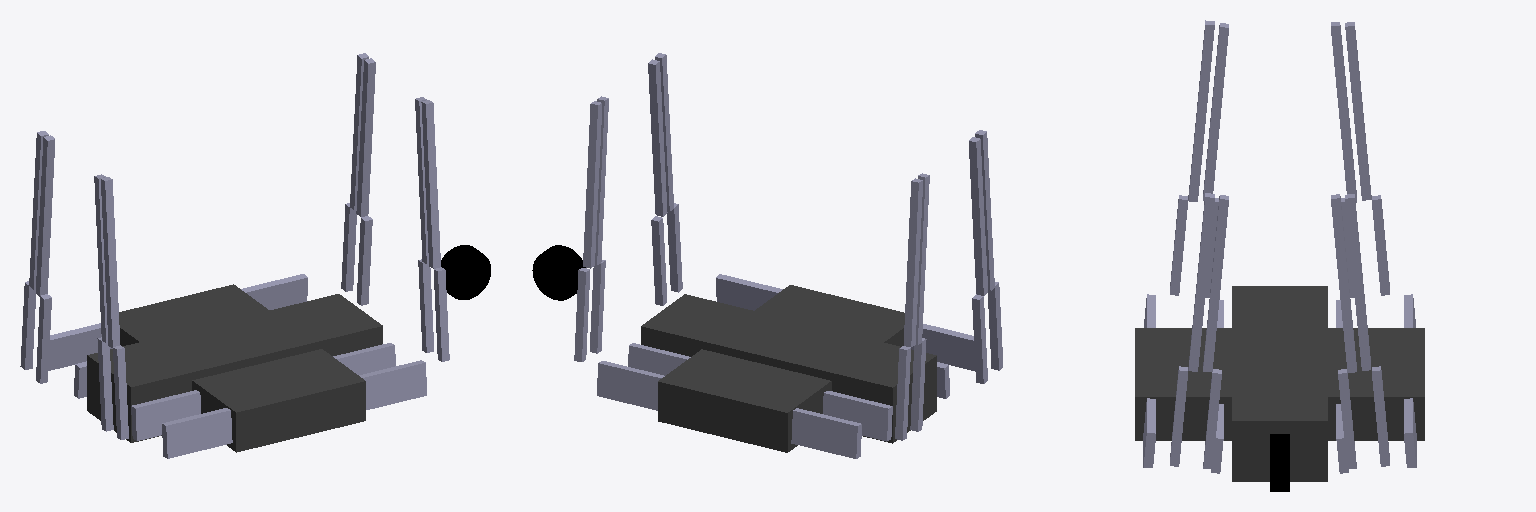
--- What the picture shows (computed from the rendered views, not written in the file) ---
The picture shows the robot from 3 angles, left to right: view 1: azimuth 30°, elevation 25°; view 2: azimuth 150°, elevation 25°; view 3: azimuth 270°, elevation 25°; orthographic projection.
Robot: quadruped — 28 links, 27 joints (8 revolute, 8 continuous, 11 fixed); root link base_chassis_link; default pose: every joint at zero.
Links seen in each view (by area): view 1: base_chassis_link, chassis_right, chassis_left, eyes, lower_leg_back_rightR_link, lower_leg_front_rightR_link, lower_leg_back_leftR_link, lower_leg_front_leftR_link, upper_leg_front_rightR_link, upper_leg_back_rightR_link, lower_leg_back_leftL_link, lower_leg_front_leftL_link (+8 smaller); view 2: base_chassis_link, chassis_left, chassis_right, eyes, lower_leg_back_leftL_link, lower_leg_front_leftL_link, lower_leg_back_rightL_link, lower_leg_front_rightL_link, lower_leg_back_rightR_link, lower_leg_back_leftR_link, lower_leg_front_rightR_link, upper_leg_back_leftL_link (+8 smaller); view 3: base_chassis_link, lower_leg_back_rightR_link, chassis_right, chassis_left, lower_leg_front_rightR_link, lower_leg_back_leftL_link, lower_leg_front_leftR_link, lower_leg_front_rightL_link, lower_leg_front_leftL_link, lower_leg_back_leftR_link, lower_leg_back_rightL_link, eyes (+6 smaller).
Link boxes in pixels (x1=…): base_chassis_link: x1=87, y1=284, x2=382, y2=452; chassis_right: x1=131, y1=343, x2=426, y2=458; chassis_left: x1=48, y1=274, x2=307, y2=398; eyes: x1=441, y1=245, x2=490, y2=299; lower_leg_back_rightR_link: x1=101, y1=177, x2=119, y2=347; lower_leg_front_rightR_link: x1=421, y1=100, x2=440, y2=268; lower_leg_back_leftR_link: x1=36, y1=135, x2=54, y2=296; lower_leg_front_leftR_link: x1=356, y1=58, x2=375, y2=216; upper_leg_front_rightR_link: x1=434, y1=267, x2=449, y2=361; upper_leg_back_rightR_link: x1=113, y1=345, x2=128, y2=439; lower_leg_back_leftL_link: x1=29, y1=131, x2=48, y2=289; lower_leg_front_leftL_link: x1=350, y1=53, x2=368, y2=210; base_chassis_link: x1=641, y1=285, x2=936, y2=452; chassis_left: x1=597, y1=343, x2=892, y2=458; chassis_right: x1=716, y1=274, x2=975, y2=398; eyes: x1=532, y1=245, x2=585, y2=300; lower_leg_back_leftL_link: x1=904, y1=178, x2=922, y2=346; lower_leg_front_leftL_link: x1=583, y1=101, x2=601, y2=268; lower_leg_back_rightL_link: x1=969, y1=137, x2=987, y2=295; lower_leg_front_rightL_link: x1=648, y1=59, x2=667, y2=216; lower_leg_back_rightR_link: x1=975, y1=130, x2=994, y2=290; lower_leg_back_leftR_link: x1=916, y1=173, x2=929, y2=344; lower_leg_front_rightR_link: x1=655, y1=53, x2=673, y2=211; upper_leg_back_leftL_link: x1=895, y1=346, x2=910, y2=440; base_chassis_link: x1=1135, y1=286, x2=1424, y2=481; lower_leg_back_rightR_link: x1=1188, y1=20, x2=1214, y2=201; chassis_right: x1=1143, y1=294, x2=1223, y2=473; chassis_left: x1=1336, y1=294, x2=1416, y2=473; lower_leg_front_rightR_link: x1=1188, y1=193, x2=1214, y2=371; lower_leg_back_leftL_link: x1=1345, y1=22, x2=1371, y2=200; lower_leg_front_leftR_link: x1=1331, y1=194, x2=1356, y2=372; lower_leg_front_rightL_link: x1=1203, y1=195, x2=1228, y2=371; lower_leg_front_leftL_link: x1=1345, y1=194, x2=1370, y2=370; lower_leg_back_leftR_link: x1=1331, y1=22, x2=1356, y2=202; lower_leg_back_rightL_link: x1=1203, y1=23, x2=1228, y2=200; eyes: x1=1270, y1=434, x2=1289, y2=491.
Bounding box of the posed robot: 0.545 × 0.3 × 0.3508 m (x, y, z).
Meshes: 1 distinct files referenced, 0 mesh visuals loaded (none loaded); not drawn: 8 (reference not matched to a file when rendering).

robot.urdf — quadruped:
<?xml version="0.0" ?>
<!-- ======================================================================= -->
<!--LICENSE:                                                                 -->
<!--Copyright (c) 2017, Erwin Coumans                                        -->
<!--Google Inc.                                                              -->
<!--All rights reserved.                                                     -->
<!--                                                                         -->
<!--Redistribution and use in source and binary forms, with or without       -->
<!--modification, are permitted provided that the following conditions are   -->
<!--met:                                                                     -->
<!--                                                                         -->
<!--1. Redistributions or derived work must retain this copyright notice,    -->
<!--   this list of conditions and the following disclaimer.                 -->
<!--                                                                         -->
<!--2. Redistributions in binary form must reproduce the above copyright     -->
<!--   notice, this list of conditions and the following disclaimer in the   -->
<!--   documentation and/or other materials provided with the distribution.  -->
<!--                                                                         -->
<!--THIS SOFTWARE IS PROVIDED BY THE COPYRIGHT HOLDERS AND CONTRIBUTORS "AS  -->
<!--IS" AND ANY EXPRESS OR IMPLIED WARRANTIES, INCLUDING, BUT NOT LIMITED TO,-->
<!--THE IMPLIED WARRANTIES OF MERCHANTABILITY AND FITNESS FOR A PARTICULAR   -->
<!--PURPOSE ARE DISCLAIMED. IN NO EVENT SHALL THE COPYRIGHT HOLDER OR        -->
<!--CONTRIBUTORS BE LIABLE FOR ANY DIRECT, INDIRECT, INCIDENTAL, SPECIAL,    -->
<!--EXEMPLARY, OR CONSEQUENTIAL DAMAGES (INCLUDING, BUT NOT LIMITED TO,      -->
<!--PROCUREMENT OF SUBSTITUTE GOODS OR SERVICES; LOSS OF USE, DATA, OR       -->
<!--PROFITS; OR BUSINESS INTERRUPTION) HOWEVER CAUSED AND ON ANY THEORY OF   -->
<!--LIABILITY, WHETHER IN CONTRACT, STRICT LIABILITY, OR TORT (INCLUDING     -->
<!--NEGLIGENCE OR OTHERWISE) ARISING IN ANY WAY OUT OF THE USE OF THIS       -->
<!--SOFTWARE, EVEN IF ADVISED OF THE POSSIBILITY OF SUCH DAMAGE.             -->

<robot name="quadruped">
  <link name="base_chassis_link">
    <visual>
      <geometry>
        <box size=".33 0.10 .07"/>
      </geometry>
      <material name="black">
        <color rgba="0.3 0.3 0.3 1"/>
      </material>
    </visual>
    <visual>
			<origin rpy="0 0 0" xyz="0 0.10 0"/>
      <geometry>
        <box size=".17 0.10 .05"/>
      </geometry>
      <material name="black">
        <color rgba="0.3 0.3 0.3 1"/>
      </material>
    </visual>
		<visual>
			<origin rpy="0 0 0" xyz="0 -0.10 0"/>
      <geometry>
        <box size=".17 0.10 .05"/>
      </geometry>
      <material name="black">
        <color rgba="0.3 0.3 0.3 1"/>
      </material>
    </visual>

    <collision>
      <geometry>
       <box size=".33 0.10 .07"/>
      </geometry>
    </collision>
    <collision>
			<origin rpy="0 0 0" xyz="0 0.10 0"/>
      <geometry>
       <box size=".17 0.10 .05"/>
      </geometry>
    </collision>
    <collision>
			<origin rpy="0 0 0" xyz="0 -0.10 0"/>
      <geometry>
       <box size=".17 0.10 .05"/>
      </geometry>
    </collision>

    <inertial>
      <mass value="3"/>
      <inertia ixx="1.0" ixy="0.0" ixz="0.0" iyy="1.0" iyz="0.0" izz="1.0"/>
    </inertial>
  </link>
  <link name="eyes">
    <inertial>
      <mass value="0.0"/>
      <inertia ixx="0.0" ixy="0.0" ixz="0.0" iyy="0.0" iyz="0.0" izz="0.0"/>
    </inertial>
    <visual>
      <origin xyz="0 0 0" rpy="0 1.5708 0" />
      <geometry>
        <cylinder radius="0.03" length="0.02"/>
      </geometry>
      <material name="Black">
        <color rgba="0 0 0 1.0"/>
      </material>
    </visual>
  </link>
  <joint name="eyes_joint" type="fixed">
    <!-- camera is located at front bar -->
    <origin rpy="1.57 0 -1.57" xyz="0.3 0 0.05"/>
    <parent link="base_chassis_link"/>
    <child link="eyes"/>
  </joint>
  <link name="chassis_right">
    <visual>
			<origin rpy="0 0 0" xyz="0 0.035 0"/>
      <geometry>
       <box size=".34 0.01 .04"/>
      </geometry>
			<material name="grey">
        <color rgba="0.65 0.65 0.75 1"/>
      </material>    </visual>
    <visual>
			<origin rpy="0 0 0" xyz="0 -0.035 0"/>
      <geometry>
       <box size=".34 0.01 .04"/>
      </geometry>
			<material name="grey">
        <color rgba="0.65 0.65 0.75 1"/>
      </material>    
    </visual>
    <collision>
			<origin rpy="0 0 0" xyz="0 0.035 0"/>
      <geometry>
       <box size=".34 0.01 .04"/>
      </geometry>
    </collision>
    <collision>
			<origin rpy="0 0 0" xyz="0 -0.035 0"/>
      <geometry>
       <box size=".34 0.01 .04"/>
      </geometry>
    </collision>
    <inertial>
      <mass value=".1"/>
      <inertia ixx="1.0" ixy="0.0" ixz="0.0" iyy="1.0" iyz="0.0" izz="1.0"/>
    </inertial>
  </link>

  <joint name="chassis_right_center" type="fixed">
    <axis xyz="0 0 1"/>
    <parent link="base_chassis_link"/>
    <child link="chassis_right"/>
    <origin rpy="-0.0872665 0 0" xyz="0.0 -0.10 0.0"/>
    <limit effort="100" velocity="100"/>
    <joint_properties damping="0.0" friction="0.0"/>
  </joint>

  <link name="chassis_left">
    <visual>
			<origin rpy="0 0 0" xyz="0 0.035 0"/>
      <geometry>
       <box size=".34 0.01 .04"/>
      </geometry>
			<material name="grey">
        <color rgba="0.65 0.65 0.75 1"/>
      </material>    </visual>
    <visual>
			<origin rpy="0 0 0" xyz="0 -0.035 0"/>
      <geometry>
       <box size=".34 0.01 .04"/>
      </geometry>
			<material name="grey">
        <color rgba="0.65 0.65 0.75 1"/>
      </material>    </visual>
    <collision>
			<origin rpy="0 0 0" xyz="0 0.035 0"/>
      <geometry>
       <box size=".34 0.01 .04"/>
      </geometry>
    </collision>
    <collision>
			<origin rpy="0 0 0" xyz="0 -0.035 0"/>
      <geometry>
       <box size=".34 0.01 .04"/>
      </geometry>
    </collision>
    <inertial>
      <mass value=".1"/>
      <inertia ixx="1.0" ixy="0.0" ixz="0.0" iyy="1.0" iyz="0.0" izz="1.0"/>
    </inertial>
  </link>

  <joint name="chassis_left_center" type="fixed">
    <axis xyz="0 0 1"/>
    <parent link="base_chassis_link"/>
    <child link="chassis_left"/>
    <origin rpy="0.0872665 0 0" xyz="0.0 0.10 0.0"/>
    <limit effort="100" velocity="100"/>
    <joint_properties damping="0.0" friction="0.0"/>
  </joint>

  
  
  <link name="motor_front_rightR_link">
    <visual>
      <geometry>
        <mesh filename="tmotor3.obj" scale="1 1 1"/>
      </geometry>
      <material name="white">
        <color rgba="1 1 1 1"/>
      </material>
    </visual>
    <collision>
      <geometry>
        <cylinder length="0.026" radius="0.0434"/>
      </geometry>
    </collision>
    <inertial>
      <mass value="0.25"/>
      <inertia ixx="1.0" ixy="0.0" ixz="0.0" iyy="1.0" iyz="0.0" izz="1.0"/>
    </inertial>
  </link>
  <joint name="motor_front_rightR_joint" type="continuous">
    <axis xyz="0 0 1"/>
    <parent link="chassis_right"/>
    <child link="motor_front_rightR_link"/>
    <origin rpy="1.57075 0 0" xyz="0.21 -0.025 0"/>
    <limit effort="100" velocity="100"/>
    <joint_properties damping="0.0" friction="0.0"/>
  </joint>


	<link name="motor_front_rightL_link">
    <visual>
      <geometry>
        <mesh filename="tmotor3.obj" scale="1 1 1"/>
      </geometry>
      <material name="white">
        <color rgba="1 1 1 1"/>
      </material>
    </visual>
    <collision>
      <geometry>
        <cylinder length="0.026" radius="0.0434"/>
      </geometry>
    </collision>
    <inertial>
      <mass value="0.25"/>
      <inertia ixx="1.0" ixy="0.0" ixz="0.0" iyy="1.0" iyz="0.0" izz="1.0"/>
    </inertial>
  </link>
  <joint name="motor_front_rightL_joint" type="continuous">
    <axis xyz="0 0 1"/>
    <parent link="chassis_right"/>
    <child link="motor_front_rightL_link"/>
    <origin rpy="1.57075 0 3.141592" xyz="0.21 0.04 0"/>
    <limit effort="100" velocity="100"/>
    <joint_properties damping="0.0" friction="0.0"/>
  </joint>
  
  
  <link name="motor_front_leftL_link">
    <visual>
      <geometry>
        <mesh filename="tmotor3.obj" scale="1 1 1"/>
      </geometry>
      <material name="white">
        <color rgba="1 1 1 1"/>
      </material>
    </visual>
    <collision>
      <geometry>
        <cylinder length="0.026" radius="0.0434"/>
      </geometry>
    </collision>
    <inertial>
      <mass value="0.25"/>
      <inertia ixx="1.0" ixy="0.0" ixz="0.0" iyy="1.0" iyz="0.0" izz="1.0"/>
    </inertial>
  </link>
  <joint name="motor_front_leftL_joint" type="continuous">
    <axis xyz="0 0 1"/>
    <parent link="chassis_left"/>
    <child link="motor_front_leftL_link"/>
    <origin rpy="1.57075 0 3.141592" xyz="0.21 0.025 0"/>
    <limit effort="100" velocity="100"/>
    <joint_properties damping="0.0" friction="0.0"/>
  </joint>


	<link name="motor_front_leftR_link">
    <visual>
      <geometry>
        <mesh filename="tmotor3.obj" scale="1 1 1"/>
      </geometry>
      <material name="white">
        <color rgba="1 1 1 1"/>
      </material>
    </visual>
    <inertial>
      <mass value="0.25"/>
      <inertia ixx="1.0" ixy="0.0" ixz="0.0" iyy="1.0" iyz="0.0" izz="1.0"/>
    </inertial>
  </link>
  <joint name="motor_front_leftR_joint" type="continuous">
    <axis xyz="0 0 1"/>
    <parent link="chassis_left"/>
    <child link="motor_front_leftR_link"/>
    <origin rpy="1.57075 0 0" xyz="0.21 -0.04 0"/>
    <limit effort="100" velocity="100"/>
    <joint_properties damping="0.0" friction="0.0"/>
  </joint>
  
  
  <link name="motor_back_rightR_link">
    <visual>
      <geometry>
        <mesh filename="tmotor3.obj" scale="1 1 1"/>
      </geometry>
      <material name="white">
        <color rgba="1 1 1 1"/>
      </material>
    </visual>
    <collision>
      <geometry>
        <cylinder length="0.026" radius="0.0434"/>
      </geometry>
    </collision>
    <inertial>
      <mass value="0.25"/>
      <inertia ixx="1.0" ixy="0.0" ixz="0.0" iyy="1.0" iyz="0.0" izz="1.0"/>
    </inertial>
  </link>
  <joint name="motor_back_rightR_joint" type="continuous">
    <axis xyz="0 0 1"/>
    <parent link="chassis_right"/>
    <child link="motor_back_rightR_link"/>
    <origin rpy="1.57075 0 0" xyz="-0.21 -0.025 0"/>
    <limit effort="100" velocity="100"/>
    <joint_properties damping="0.0" friction="0.0"/>
  </joint>


	<link name="motor_back_rightL_link">
    <visual>
      <geometry>
        <mesh filename="tmotor3.obj" scale="1 1 1"/>
      </geometry>
      <material name="white">
        <color rgba="1 1 1 1"/>
      </material>
    </visual>
    <collision>
      <geometry>
        <cylinder length="0.026" radius="0.0434"/>
      </geometry>
    </collision>
    <inertial>
      <mass value="0.25"/>
      <inertia ixx="1.0" ixy="0.0" ixz="0.0" iyy="1.0" iyz="0.0" izz="1.0"/>
    </inertial>
  </link>
  <joint name="motor_back_rightL_joint" type="continuous">
    <axis xyz="0 0 1"/>
    <parent link="chassis_right"/>
    <child link="motor_back_rightL_link"/>
    <origin rpy="1.57075 0 3.141592" xyz="-0.21 0.04 0"/>
    <limit effort="100" velocity="100"/>
    <joint_properties damping="0.0" friction="0.0"/>
  </joint>
  
  
  <link name="motor_back_leftL_link">
    <visual>
      <geometry>
        <mesh filename="tmotor3.obj" scale="1 1 1"/>
      </geometry>
      <material name="white">
        <color rgba="1 1 1 1"/>
      </material>
    </visual>
    <collision>
      <geometry>
        <cylinder length="0.026" radius="0.0434"/>
      </geometry>
    </collision>
    <inertial>
      <mass value="0.25"/>
      <inertia ixx="1.0" ixy="0.0" ixz="0.0" iyy="1.0" iyz="0.0" izz="1.0"/>
    </inertial>
  </link>
  <joint name="motor_back_leftL_joint" type="continuous">
    <axis xyz="0 0 1"/>
    <parent link="chassis_left"/>
    <child link="motor_back_leftL_link"/>
    <origin rpy="1.57075 0 3.141592" xyz="-0.21 0.025 0"/>
    <limit effort="100" velocity="100"/>
    <joint_properties damping="0.0" friction="0.0"/>
  </joint>


	<link name="motor_back_leftR_link">
    <visual>
      <geometry>
        <mesh filename="tmotor3.obj" scale="1 1 1"/>
      </geometry>
      <material name="white">
        <color rgba="1 1 1 1"/>
      </material>
    </visual>
    <collision>
      <geometry>
        <cylinder length="0.026" radius="0.0434"/>
      </geometry>
    </collision>
    <inertial>
      <mass value="0.25"/>
      <inertia ixx="1.0" ixy="0.0" ixz="0.0" iyy="1.0" iyz="0.0" izz="1.0"/>
    </inertial>
  </link>
  <joint name="motor_back_leftR_joint" type="continuous">
    <axis xyz="0 0 1"/>
    <parent link="chassis_left"/>
    <child link="motor_back_leftR_link"/>
    <origin rpy="1.57075 0 0" xyz="-0.21 -0.04 0"/>
    <limit effort="100" velocity="100"/>
    <joint_properties damping="0.0" friction="0.0"/>
  </joint>

	<link name="upper_leg_front_rightR_link">
    <visual>
      <geometry>
        <box size=".01 0.01 .11"/>
      </geometry>
      <material name="grey">
        <color rgba="0.65 0.65 0.75 1"/>
      </material>
    </visual>
    <collision>
      <geometry>
        <box size=".01 0.01 .11"/>
      </geometry>
    </collision>
    <inertial>
      <mass value="0.05"/>
      <inertia ixx="1.0" ixy="0.0" ixz="0.0" iyy="1.0" iyz="0.0" izz="1.0"/>
    </inertial>
  </link>
  <joint name="hip_front_rightR_link" type="fixed">
    <axis xyz="0 0 1"/>
    <parent link="motor_front_rightR_link"/>
    <child link="upper_leg_front_rightR_link"/>
    <origin rpy="-1.57075 0 0" xyz="0.0 0.06 -0.015"/>
    <limit effort="100" velocity="100"/>
    <joint_properties damping="0.0" friction="0.0"/>
  </joint>

	<link name="lower_leg_front_rightR_link">
	<contact>
		<stiffness value="10000"/>
		<damping value="10"/>
		<lateral_friction value="1"/>
  </contact>

    <visual>
    	<origin rpy="0.0 0 0" xyz="0 0 .1"/>
      <geometry>
        <box size=".01 0.01 .2"/>
      </geometry>
      <material name="grey">
        <color rgba="0.65 0.65 0.75 1"/>
      </material>
    </visual>
    <collision>
    	<origin rpy="0.0 0 0" xyz="0 0 .1"/>
      <geometry>
        <box size=".01 0.01 .2"/>
      </geometry>
    </collision>
    <inertial>
      <mass value="0.05"/>
      <inertia ixx="1.0" ixy="0.0" ixz="0.0" iyy="1.0" iyz="0.0" izz="1.0"/>
    </inertial>
  </link>
  <joint name="knee_front_rightR_link" type="revolute">
    <axis xyz="0 1 0"/>
    <parent link="upper_leg_front_rightR_link"/>
    <child link="lower_leg_front_rightR_link"/>
    <origin rpy="0 0 0" xyz="0.0 0.01 .055"/>
    <limit effort="100" velocity="100"/>
    <joint_properties damping="0.0" friction="0.0"/>
  </joint>

    
  <link name="upper_leg_front_rightL_link">
    <visual>
      <geometry>
        <box size=".01 0.01 .11"/>
      </geometry>
      <material name="grey">
        <color rgba="0.65 0.65 0.75 1"/>
      </material>
    </visual>
    <collision>
      <geometry>
        <box size=".01 0.01 .11"/>
      </geometry>
    </collision>
    <inertial>
      <mass value="0.05"/>
      <inertia ixx="1.0" ixy="0.0" ixz="0.0" iyy="1.0" iyz="0.0" izz="1.0"/>
    </inertial>
  </link>
  <joint name="motor_front_rightL_link" type="fixed">
    <axis xyz="0 0 1"/>
    <parent link="motor_front_rightL_link"/>
    <child link="upper_leg_front_rightL_link"/>
    <origin rpy="-1.57075 0 0" xyz="0.0 0.06 -0.015"/>
    <limit effort="100" velocity="100"/>
    <joint_properties damping="0.0" friction="0.0"/>
  </joint>

  

  
  <link name="lower_leg_front_rightL_link">
	<contact>
		<stiffness value="10000"/>
		<damping value="10"/>
		<lateral_friction value="1"/>
  </contact>

    <visual>
    	<origin rpy="0.0 0 0" xyz="0 0 .1"/>
      <geometry>
        <box size=".01 0.01 .198"/>
      </geometry>
      <material name="grey">
        <color rgba="0.65 0.65 0.75 1"/>
      </material>
    </visual>
    <collision>
    	<origin rpy="0.0 0 0" xyz="0 0 .1"/>
      <geometry>
        <box size=".01 0.01 .198"/>
      </geometry>
    </collision>
    <inertial>
      <mass value="0.05"/>
      <inertia ixx="1.0" ixy="0.0" ixz="0.0" iyy="1.0" iyz="0.0" izz="1.0"/>
    </inertial>
  </link>
  <joint name="knee_front_rightL_link" type="revolute">
    <axis xyz="0 1 0"/>
    <parent link="upper_leg_front_rightL_link"/>
    <child link="lower_leg_front_rightL_link"/>
    <origin rpy="0 0 0" xyz="0.0 0.01 .055"/>
    <limit effort="100" velocity="100"/>
    <joint_properties damping="0.0" friction="0.0"/>
  </joint>


	<link name="upper_leg_front_leftR_link">
    <visual>
      <geometry>
        <box size=".01 0.01 .11"/>
      </geometry>
      <material name="grey">
        <color rgba="0.65 0.65 0.75 1"/>
      </material>
    </visual>
    <collision>
      <geometry>
        <box size=".01 0.01 .11"/>
      </geometry>
    </collision>
    <inertial>
      <mass value="0.05"/>
      <inertia ixx="1.0" ixy="0.0" ixz="0.0" iyy="1.0" iyz="0.0" izz="1.0"/>
    </inertial>
  </link>
  <joint name="hip_front_leftR_link" type="fixed">
    <axis xyz="0 0 1"/>
    <parent link="motor_front_leftR_link"/>
    <child link="upper_leg_front_leftR_link"/>
    <origin rpy="-1.57075 0 0" xyz="0.0 0.06 -0.015"/>
    <limit effort="100" velocity="100"/>
    <joint_properties damping="0.0" friction="0.0"/>
  </joint>


	<link name="lower_leg_front_leftR_link">
	<contact>
		<stiffness value="10000"/>
		<damping value="10"/>
		<lateral_friction value="1"/>
  </contact>

    <visual>
    	<origin rpy="0.0 0.0 0" xyz="0 0 .1"/>
      <geometry>
        <box size=".01 0.01 .2"/>
      </geometry>
      <material name="grey">
        <color rgba="0.65 0.65 0.75 1"/>
      </material>
    </visual>
    <collision>
    	<origin rpy="0.0 0.0 0" xyz="0 0 .1"/>
      <geometry>
        <box size=".01 0.01 .2"/>
      </geometry>
    </collision>
    <inertial>
      <mass value="0.05"/>
      <inertia ixx="1.0" ixy="0.0" ixz="0.0" iyy="1.0" iyz="0.0" izz="1.0"/>
    </inertial>
  </link>
  <joint name="knee_front_leftR_link" type="revolute">
    <axis xyz="0 1 0"/>
    <parent link="upper_leg_front_leftR_link"/>
    <child link="lower_leg_front_leftR_link"/>
    <origin rpy="0 0 0" xyz="0.0 0.01 .055"/>
    <limit effort="100" velocity="100"/>
    <joint_properties damping="0.0" friction="0.0"/>
  </joint>



   <link name="upper_leg_front_leftL_link">
    <visual>
      <geometry>
        <box size=".01 0.01 .11"/>
      </geometry>
      <material name="grey">
        <color rgba="0.65 0.65 0.75 1"/>
      </material>
    </visual>
    <collision>
      <geometry>
        <box size=".01 0.01 .11"/>
      </geometry>
    </collision>
    <inertial>
      <mass value="0.05"/>
      <inertia ixx="1.0" ixy="0.0" ixz="0.0" iyy="1.0" iyz="0.0" izz="1.0"/>
    </inertial>
  </link>
  <joint name="motor_front_leftL_link" type="fixed">
    <axis xyz="0 0 1"/>
    <parent link="motor_front_leftL_link"/>
    <child link="upper_leg_front_leftL_link"/>
    <origin rpy="-1.57075 0 0" xyz="0.0 0.06 -0.015"/>
    <limit effort="100" velocity="100"/>
    <joint_properties damping="0.0" friction="0.0"/>
  </joint>


  <link name="lower_leg_front_leftL_link">
	<contact>
		<stiffness value="10000"/>
		<damping value="10"/>
		<lateral_friction value="1"/>
  </contact>

    <visual>
    	<origin rpy="0.0 0.0 0" xyz="0 0 .1"/>
      <geometry>
        <box size=".01 0.01 .198"/>
      </geometry>
      <material name="grey">
        <color rgba="0.65 0.65 0.75 1"/>
      </material>
    </visual>
    <collision>
    	<origin rpy="0.0 0.0 0" xyz="0 0 .1"/>
      <geometry>
        <box size=".01 0.01 .198"/>
      </geometry>
    </collision>
    <inertial>
      <mass value="0.05"/>
      <inertia ixx="1.0" ixy="0.0" ixz="0.0" iyy="1.0" iyz="0.0" izz="1.0"/>
    </inertial>
  </link>
  <joint name="knee_front_leftL_link" type="revolute">
    <axis xyz="0 1 0"/>
    <parent link="upper_leg_front_leftL_link"/>
    <child link="lower_leg_front_leftL_link"/>
    <origin rpy="0 0 0" xyz="0.0 0.01 .055"/>
    <limit effort="100" velocity="100"/>
    <joint_properties damping="0.0" friction="0.0"/>
  </joint>
  
	<link name="upper_leg_back_rightR_link">
    <visual>
      <geometry>
        <box size=".01 0.01 .11"/>
      </geometry>
      <material name="grey">
        <color rgba="0.65 0.65 0.75 1"/>
      </material>
    </visual>
    <collision>
      <geometry>
        <box size=".01 0.01 .11"/>
      </geometry>
    </collision>
    <inertial>
      <mass value="0.05"/>
      <inertia ixx="1.0" ixy="0.0" ixz="0.0" iyy="1.0" iyz="0.0" izz="1.0"/>
    </inertial>
  </link>
  <joint name="hip_rightR_link" type="fixed">
    <axis xyz="0 0 1"/>
    <parent link="motor_back_rightR_link"/>
    <child link="upper_leg_back_rightR_link"/>
    <origin rpy="-1.57075 0 0" xyz="0.0 0.06 -0.015"/>
    <limit effort="100" velocity="100"/>
    <joint_properties damping="0.0" friction="0.0"/>
  </joint>

	<link name="lower_leg_back_rightR_link">
	<contact>
		<stiffness value="10000"/>
		<damping value="10"/>
		<lateral_friction value="1"/>
  </contact>

    <visual>
    	<origin rpy="0.0 0 0" xyz="0 0 .1"/>
      <geometry>
        <box size=".01 0.01 .2032"/>
      </geometry>
      <material name="grey">
        <color rgba="0.65 0.65 0.75 1"/>
      </material>
    </visual>
    <collision>
    	<origin rpy="0.0 0 0" xyz="0 0 .1"/>
      <geometry>
        <box size=".01 0.01 .2032"/>
      </geometry>
    </collision>
    <inertial>
      <mass value="0.05"/>
      <inertia ixx="1.0" ixy="0.0" ixz="0.0" iyy="1.0" iyz="0.0" izz="1.0"/>
    </inertial>
  </link>
  <joint name="knee_back_rightR_link" type="revolute">
    <axis xyz="0 1 0"/>
    <parent link="upper_leg_back_rightR_link"/>
    <child link="lower_leg_back_rightR_link"/>
    <origin rpy="0 0 0" xyz="0.0 0.01 .055"/>
    <limit effort="100" velocity="100"/>
    <joint_properties damping="0.0" friction="0.0"/>
  </joint>

    
  <link name="upper_leg_back_rightL_link">
    <visual>
      <geometry>
        <box size=".01 0.01 .11"/>
      </geometry>
      <material name="grey">
        <color rgba="0.65 0.65 0.75 1"/>
      </material>
    </visual>
    <collision>
      <geometry>
        <box size=".01 0.01 .11"/>
      </geometry>
    </collision>
    <inertial>
      <mass value="0.05"/>
      <inertia ixx="1.0" ixy="0.0" ixz="0.0" iyy="1.0" iyz="0.0" izz="1.0"/>
    </inertial>
  </link>
  <joint name="motor_back_rightL_link" type="fixed">
    <axis xyz="0 0 1"/>
    <parent link="motor_back_rightL_link"/>
    <child link="upper_leg_back_rightL_link"/>
    <origin rpy="-1.57075 0 0" xyz="0.0 0.06 -0.015"/>
    <limit effort="100" velocity="100"/>
    <joint_properties damping="0.0" friction="0.0"/>
  </joint>

  

  
  <link name="lower_leg_back_rightL_link">
	<contact>
		<stiffness value="10000"/>
		<damping value="10"/>
		<lateral_friction value="1"/>
  </contact>
  
    <visual>
    	<origin rpy="0.0 0 0" xyz="0 0 .1"/>
      <geometry>
        <box size=".01 0.01 .2"/>
      </geometry>
      <material name="grey">
        <color rgba="0.65 0.65 0.75 1"/>
      </material>
    </visual>
    <collision>
    	<origin rpy="0.0 0 0" xyz="0 0 .1"/>
      <geometry>
        <box size=".01 0.01 .2"/>
      </geometry>
    </collision>
    <inertial>
      <mass value="0.05"/>
      <inertia ixx="1.0" ixy="0.0" ixz="0.0" iyy="1.0" iyz="0.0" izz="1.0"/>
    </inertial>
  </link>
  <joint name="knee_back_rightL_link" type="revolute">
    <axis xyz="0 1 0"/>
    <parent link="upper_leg_back_rightL_link"/>
    <child link="lower_leg_back_rightL_link"/>
    <origin rpy="0 0 0" xyz="0.0 0.01 .055"/>
    <limit effort="100" velocity="100"/>
    <joint_properties damping="0.0" friction="0.0"/>
  </joint>



	<link name="upper_leg_back_leftR_link">
    <visual>
      <geometry>
        <box size=".01 0.01 .11"/>
      </geometry>
      <material name="grey">
        <color rgba="0.65 0.65 0.75 1"/>
      </material>
    </visual>
    <collision>
      <geometry>
        <box size=".01 0.01 .11"/>
      </geometry>
    </collision>
    <inertial>
      <mass value="0.05"/>
      <inertia ixx="1.0" ixy="0.0" ixz="0.0" iyy="1.0" iyz="0.0" izz="1.0"/>
    </inertial>
  </link>
  <joint name="hip_leftR_link" type="fixed">
    <axis xyz="0 0 1"/>
    <parent link="motor_back_leftR_link"/>
    <child link="upper_leg_back_leftR_link"/>
    <origin rpy="-1.57075 0 0" xyz="0.0 0.06 -0.015"/>
    <limit effort="100" velocity="100"/>
    <joint_properties damping="0.0" friction="0.0"/>
  </joint>

<link name="lower_leg_back_leftR_link">
	<contact>
		<stiffness value="10000"/>
		<damping value="10"/>
		<lateral_friction value="1"/>
  </contact>

    <visual>
    	<origin rpy="0.0 0 0" xyz="0 0 .1"/>
      <geometry>
        <box size=".01 0.01 .2032"/>
      </geometry>
      <material name="grey">
        <color rgba="0.65 0.65 0.75 1"/>
      </material>
    </visual>
    <collision>
    	<origin rpy="0.0 0 0" xyz="0 0 .1"/>
      <geometry>
        <box size=".01 0.01 .2032"/>
      </geometry>
    </collision>
    <inertial>
      <mass value="0.05"/>
      <inertia ixx="1.0" ixy="0.0" ixz="0.0" iyy="1.0" iyz="0.0" izz="1.0"/>
    </inertial>
  </link>
  <joint name="knee_back_leftR_link" type="revolute">
    <axis xyz="0 1 0"/>
    <parent link="upper_leg_back_leftR_link"/>
    <child link="lower_leg_back_leftR_link"/>
    <origin rpy="0 0 0" xyz="0.0 0.01 .055"/>
    <limit effort="100" velocity="100"/>
    <joint_properties damping="0.0" friction="0.0"/>
  </joint>
  
   <link name="upper_leg_back_leftL_link">
    <visual>
      <geometry>
        <box size=".01 0.01 .11"/>
      </geometry>
      <material name="grey">
        <color rgba="0.65 0.65 0.75 1"/>
      </material>
    </visual>
    <collision>
      <geometry>
        <box size=".01 0.01 .11"/>
      </geometry>
    </collision>
    <inertial>
      <mass value="0.05"/>
      <inertia ixx="1.0" ixy="0.0" ixz="0.0" iyy="1.0" iyz="0.0" izz="1.0"/>
    </inertial>
  </link>
  <joint name="motor_back_leftL_link" type="fixed">
    <axis xyz="0 0 1"/>
    <parent link="motor_back_leftL_link"/>
    <child link="upper_leg_back_leftL_link"/>
    <origin rpy="-1.57075 0 0" xyz="0.0 0.06 -0.015"/>
    <limit effort="100" velocity="100"/>
    <joint_properties damping="0.0" friction="0.0"/>
  </joint>

 
  <link name="lower_leg_back_leftL_link">
	<contact>
		<stiffness value="10000"/>
		<damping value="10"/>
		<lateral_friction value="1"/>
  </contact>

    <visual>
    	<origin rpy="0.0 0 0" xyz="0 0 .1"/>
      <geometry>
        <box size=".01 0.01 .2"/>
      </geometry>
      <material name="grey">
        <color rgba="0.65 0.65 0.75 1"/>
      </material>
    </visual>
    <collision>
    	<origin rpy="0.0 0 0" xyz="0 0 .1"/>
      <geometry>
        <box size=".01 0.01 .2"/>
      </geometry>
    </collision>
    <inertial>
      <mass value="0.05"/>
      <inertia ixx="1.0" ixy="0.0" ixz="0.0" iyy="1.0" iyz="0.0" izz="1.0"/>
    </inertial>
  </link>
  <joint name="knee_back_leftL_link" type="revolute">
    <axis xyz="0 1 0"/>
    <parent link="upper_leg_back_leftL_link"/>
    <child link="lower_leg_back_leftL_link"/>
    <origin rpy="0 0 0" xyz="0.0 0.01 .055"/>
    <limit effort="100" velocity="100"/>
    <joint_properties damping="0.0" friction="0.0"/>
  </joint>
 
</robot>
